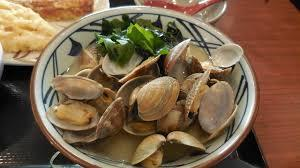asari: (26, 3, 265, 168)
